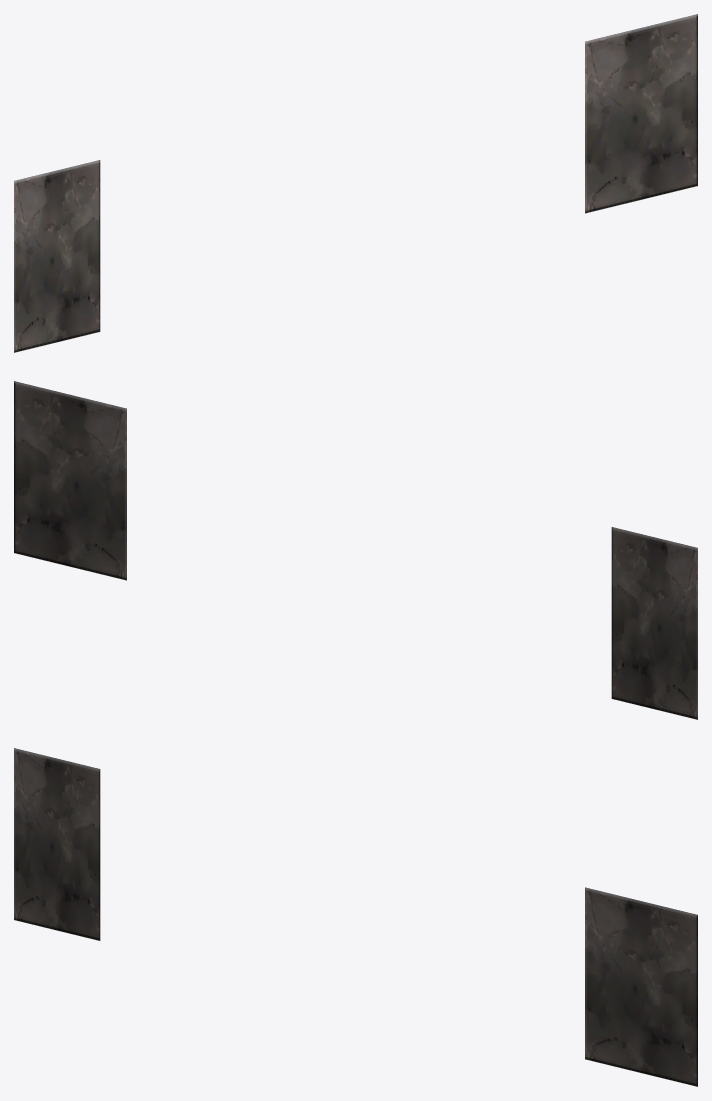
The model's file is CH09_SMAUG_PLAYSURFACE_LAIR111.fbx.
The picture shows the model from 3 angles, top to bottom: view 1: azimuth 30°, elevation 25°; view 2: azimuth 150°, elevation 25°; view 3: azimuth 330°, elevation 25°; orthographic projection.
Visible parts, largest first — view 1: CH09_SMAUG_PLAYSURFACE_LAIR111; view 2: CH09_SMAUG_PLAYSURFACE_LAIR111; view 3: CH09_SMAUG_PLAYSURFACE_LAIR111.
Part boxes in pixels (bbox=[...]): CH09_SMAUG_PLAYSURFACE_LAIR111: bbox=[14, 14, 697, 352]; CH09_SMAUG_PLAYSURFACE_LAIR111: bbox=[14, 381, 697, 719]; CH09_SMAUG_PLAYSURFACE_LAIR111: bbox=[14, 748, 697, 1086].
Bounding box in the file's own units: 160440 × 38559 × 0.0307.
1 material, 1 textured.
